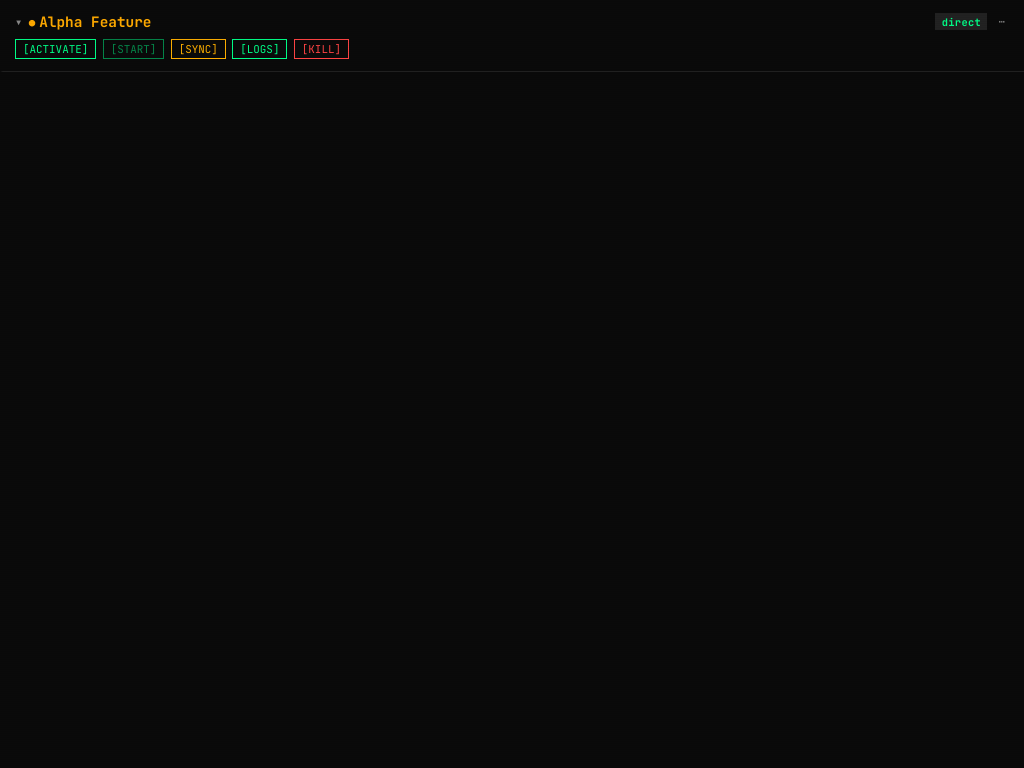
FeatureCard — config menu › close button dismisses the modal
The image size is (1024, 768).
Click the button named "Open Alpha Feature configuration".
click(1002, 22)  # box 991,14 -> 1012,29
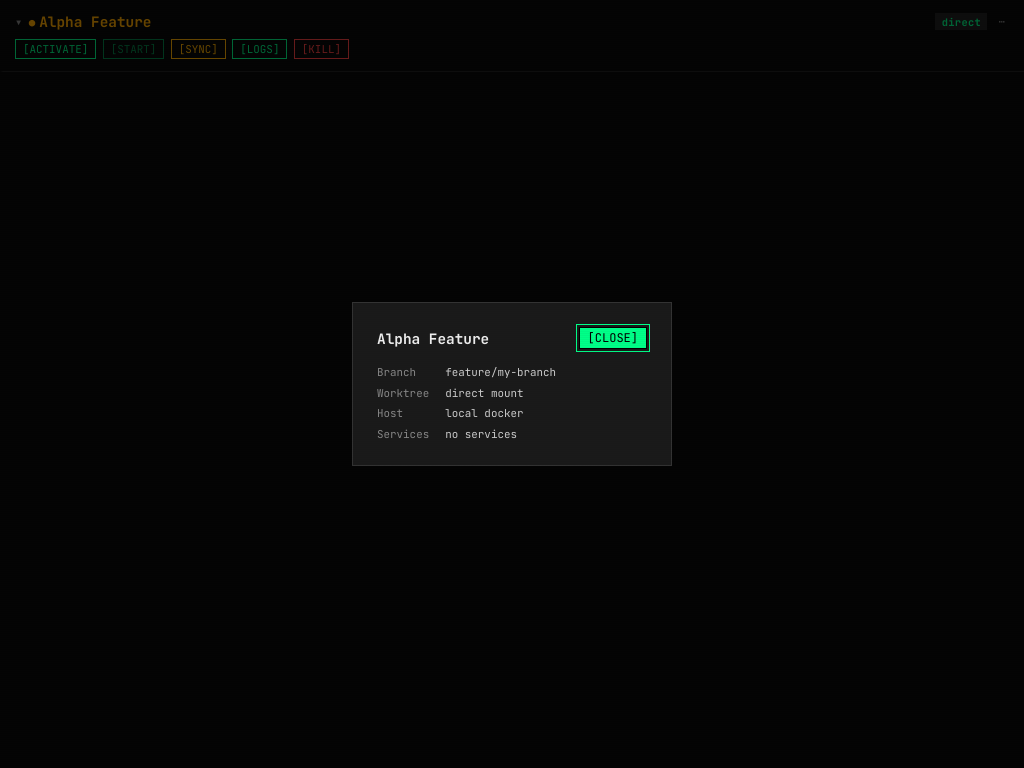
Expected: the dialog is shown
Click the button "[CLOSE]".
click(613, 338)  # box 579,327 -> 647,349
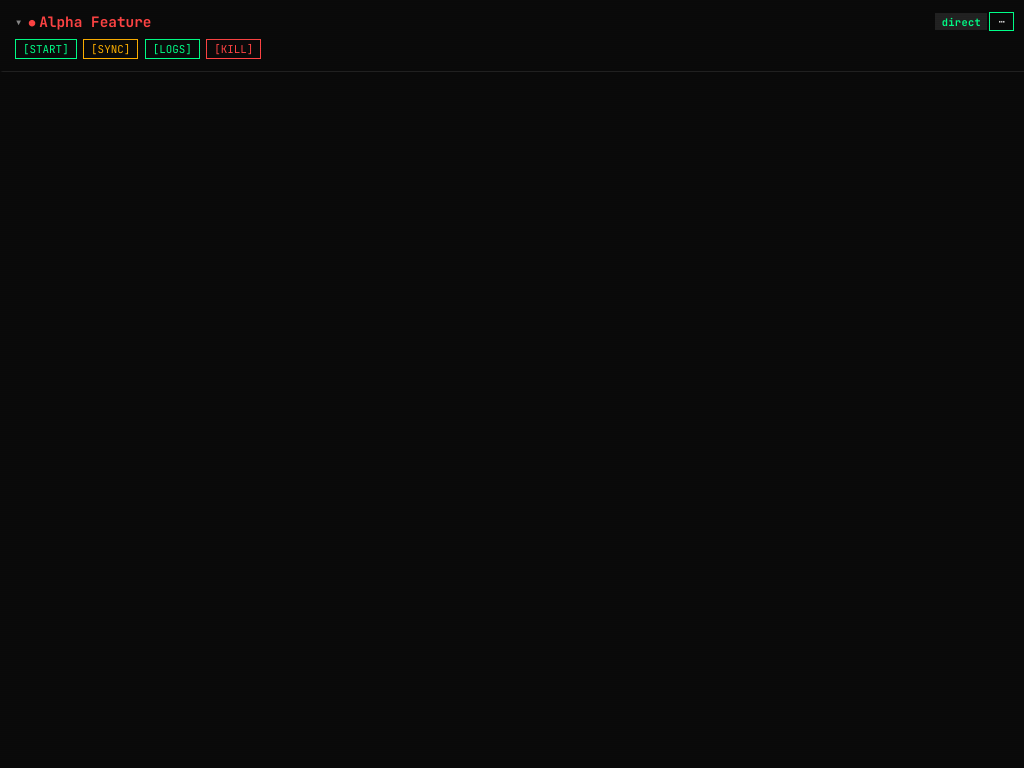
Expected: the dialog is gone
